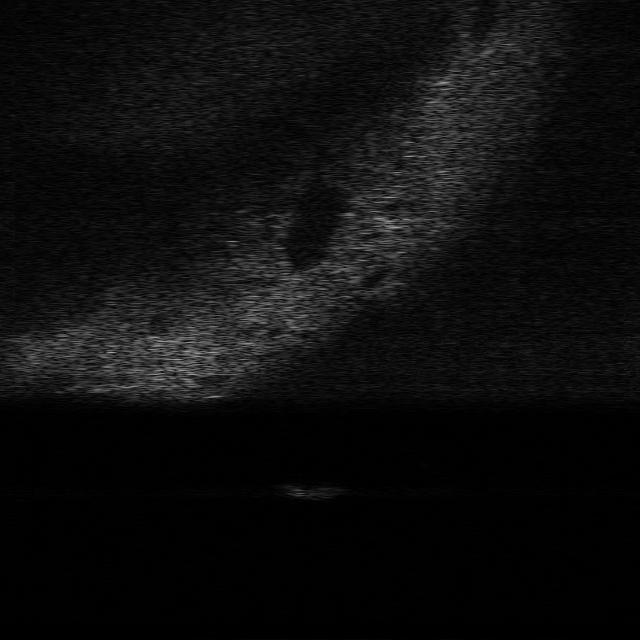cube: (280, 484, 346, 500)
